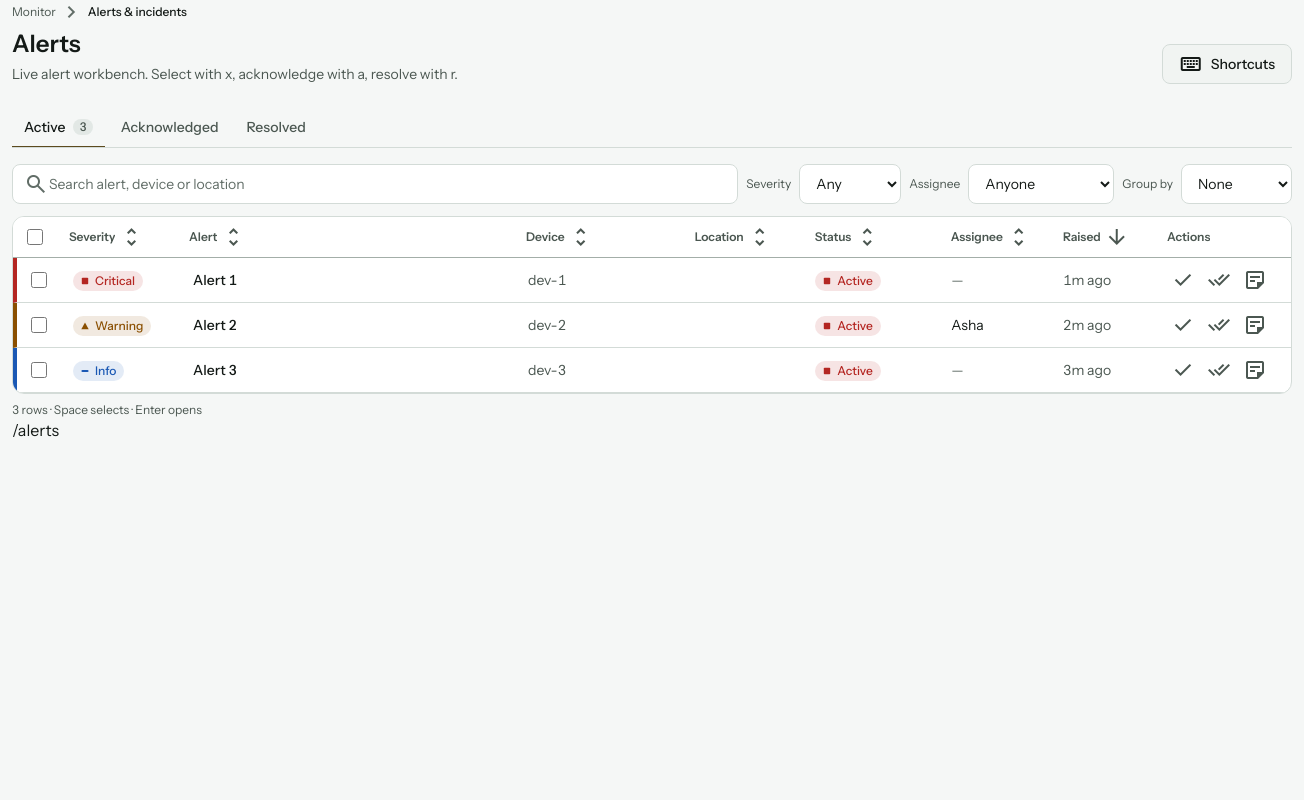
Alerts workbench › acknowledges optimistically and rolls back on failure
Click the button named "Acknowledge Alert 1" at (1183, 280), box [1167,264,1199,296]
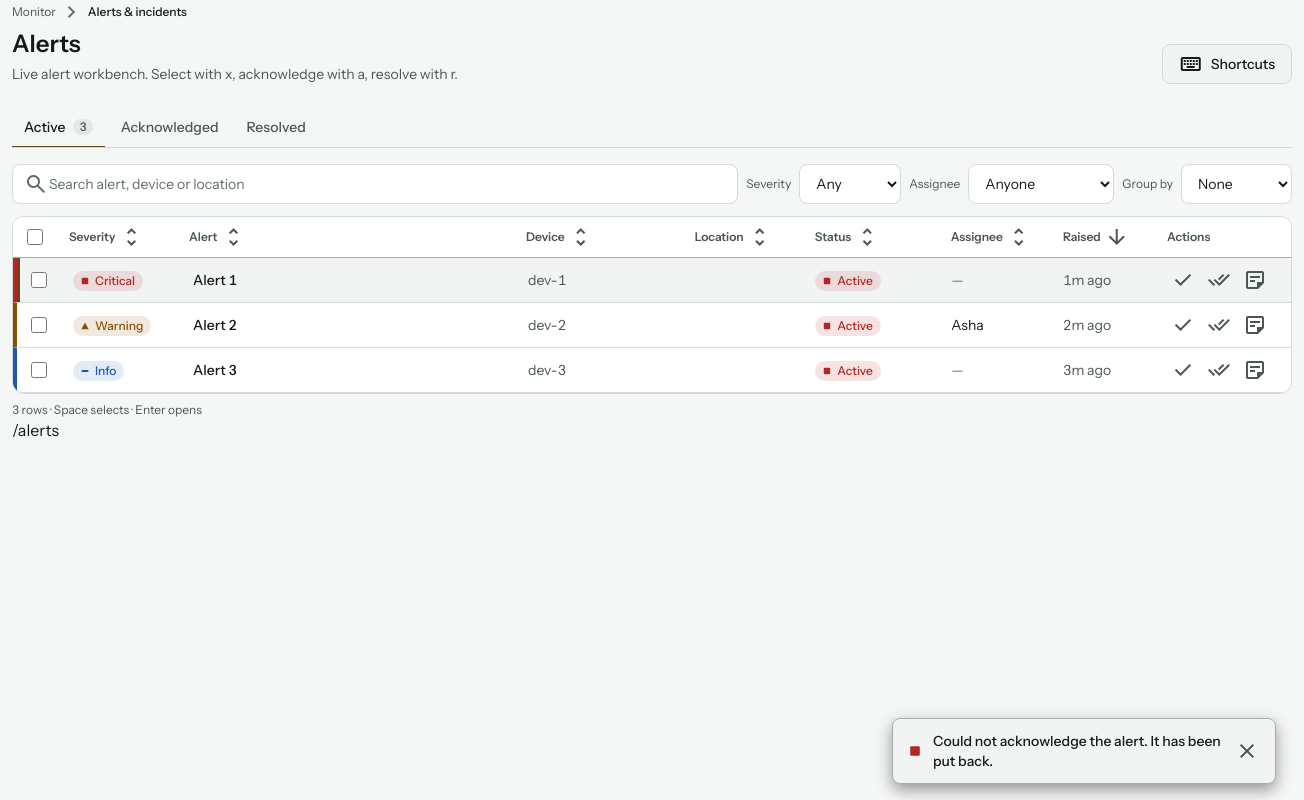
Expected: the button "Alert 1" is shown, [193,270,237,290]
Expected: the text "Could not acknowledge the alert. It has been put back." is shown, [933,731,1223,771]
